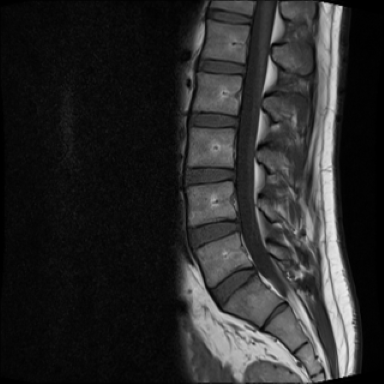Normal IVD: (205, 258, 258, 313), (184, 212, 242, 254), (178, 158, 240, 191), (193, 52, 248, 81), (180, 106, 240, 132), (204, 6, 255, 30)
